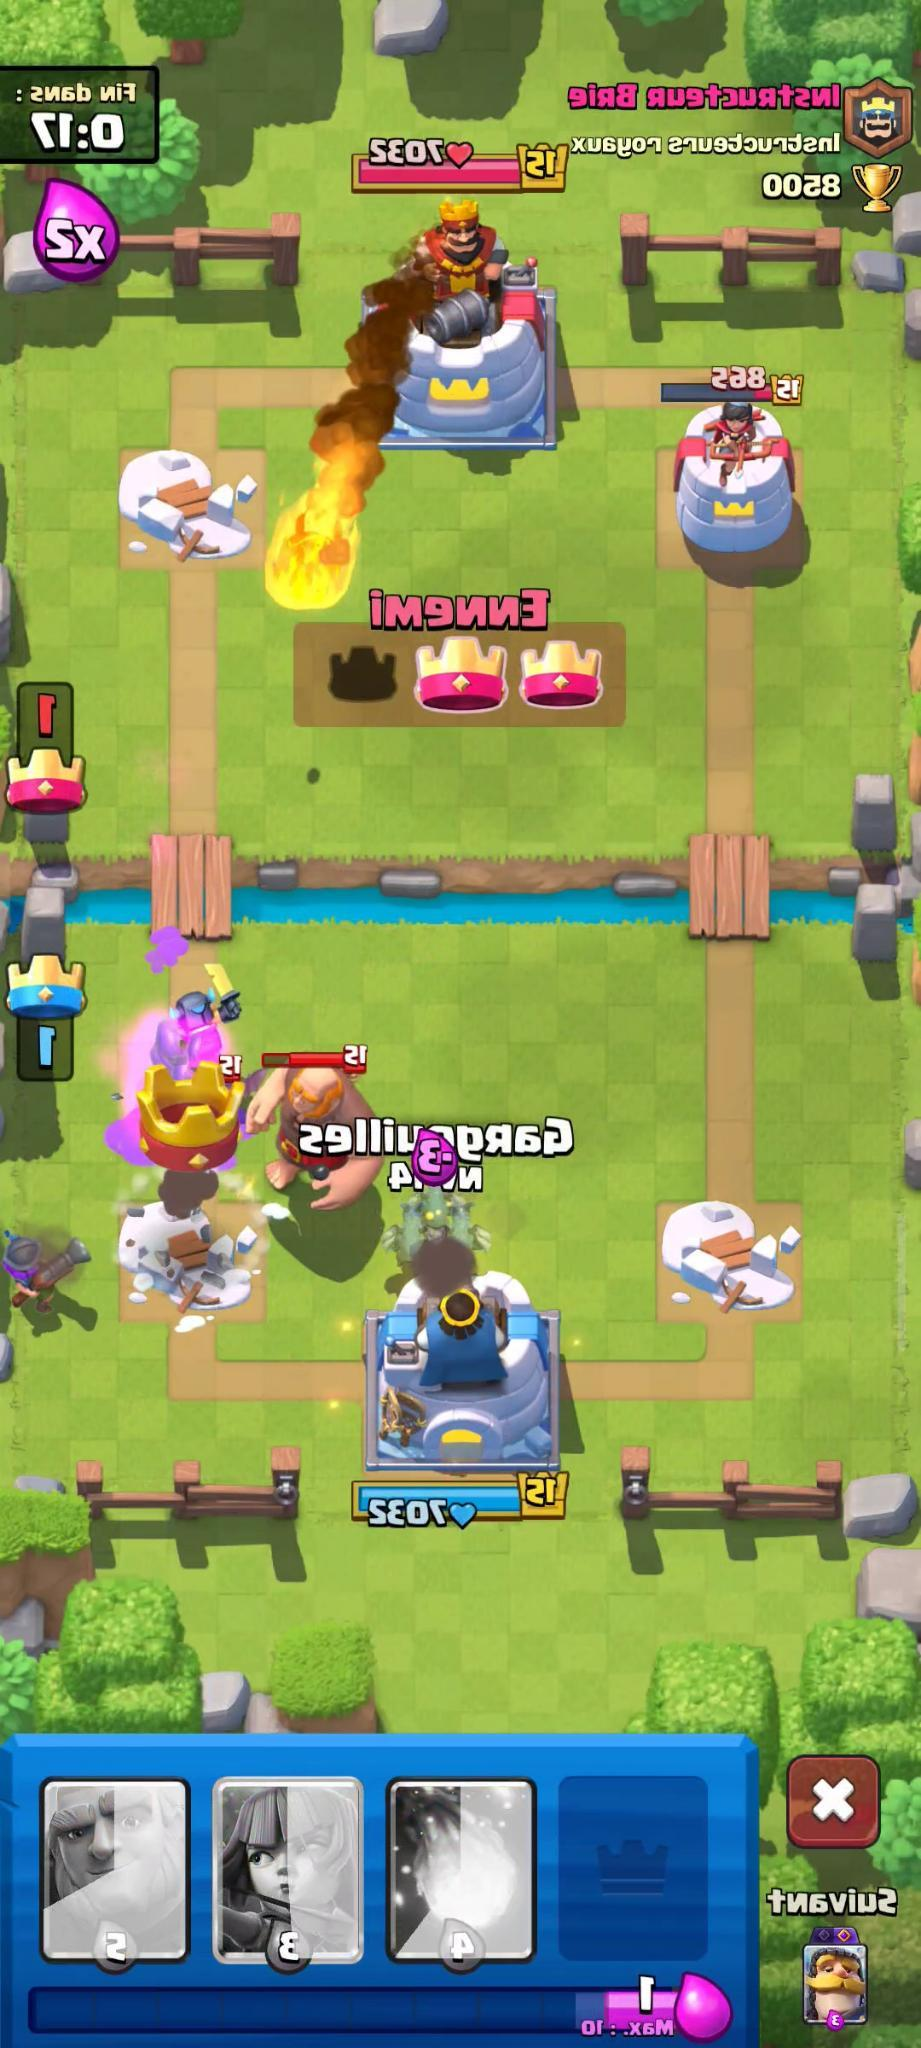enemy_fireball: (266, 267, 427, 622)
enemy_giant: (246, 1030, 386, 1208)
player_mini_pekka: (154, 957, 254, 1060)
